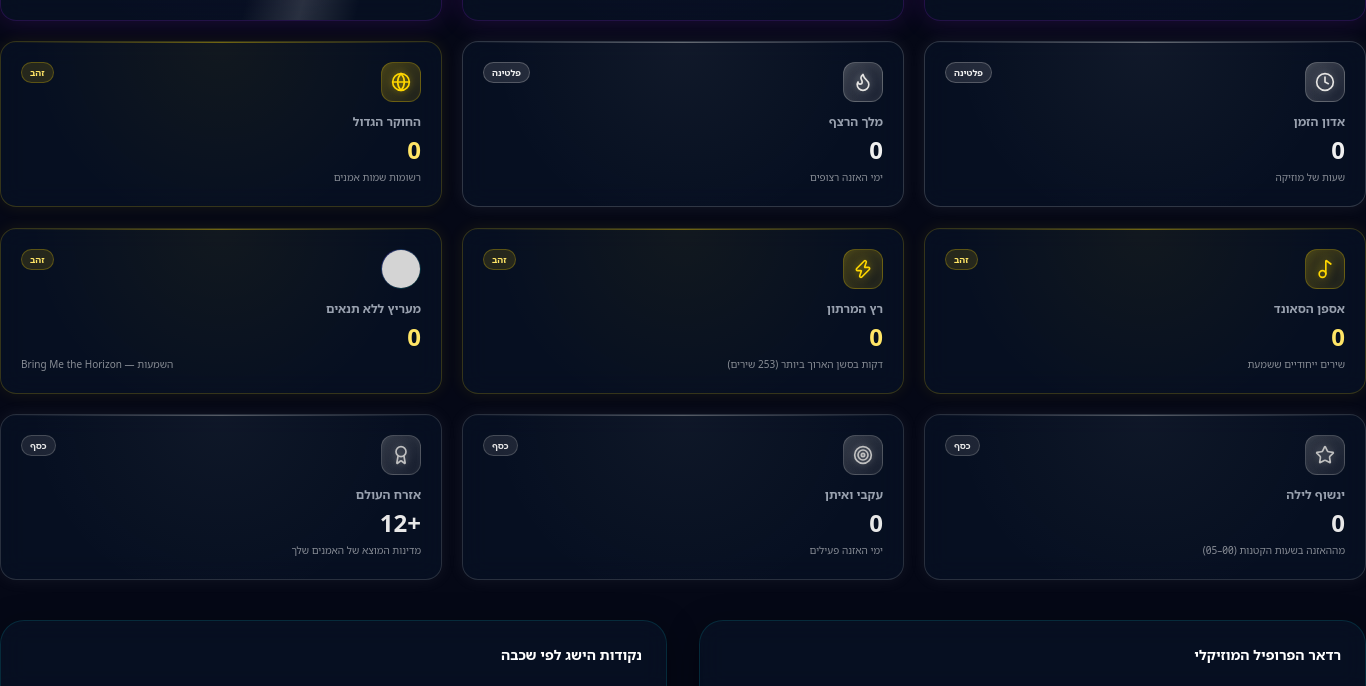
Test case: Achievements › exposes achievement copy and controls in Hebrew without translating artist names
(page scrolled)
Click the button "BH זהב מעריץ ללא תנאים 0 Bring Me the Horizon — השמעות" at (401, 269), box [21,249,421,373]
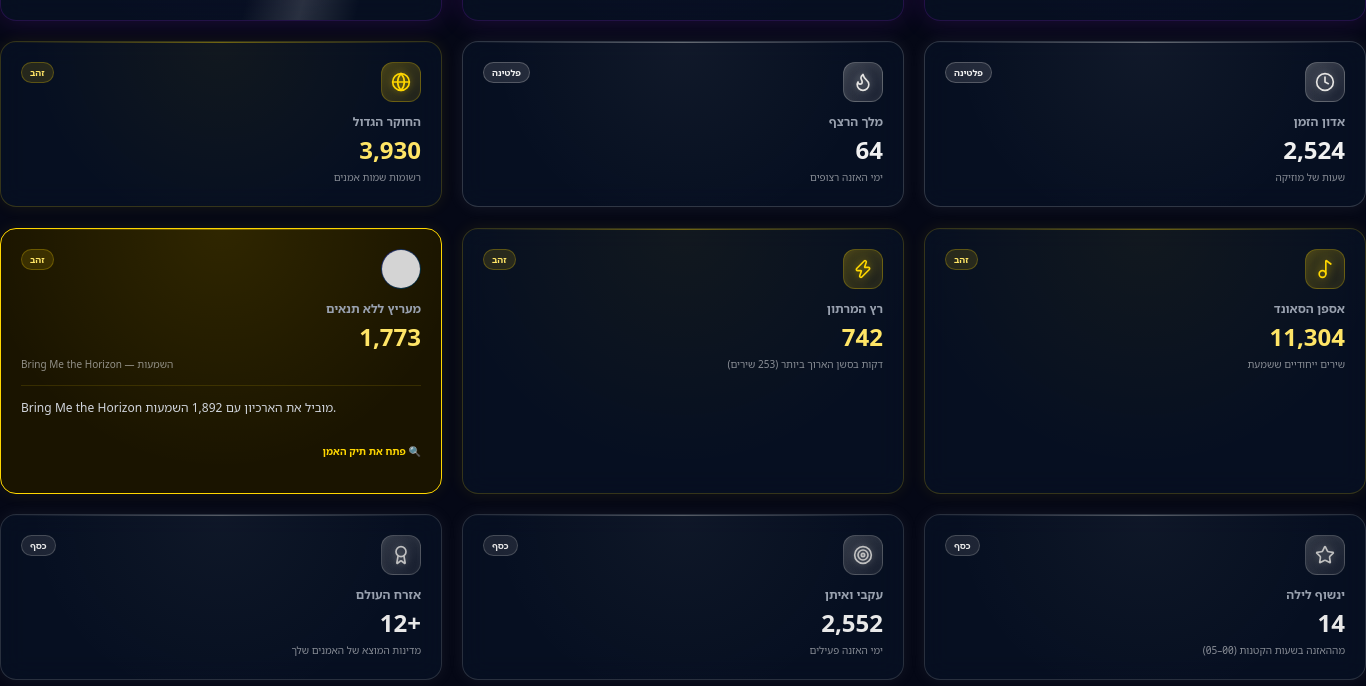
Expected: the text "Bring Me the Horizon" is shown, [21,357,173,371]
Expected: the button "🔍 פתח את תיק האמן" is shown, [322,429,421,473]
